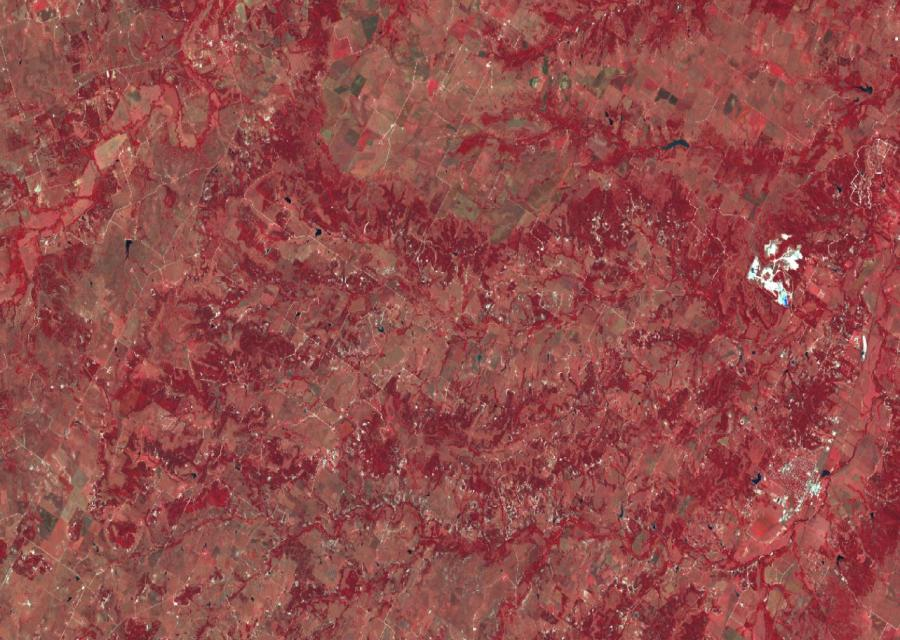Potential Lime Manufacturing Facility: (749, 234, 803, 306)
